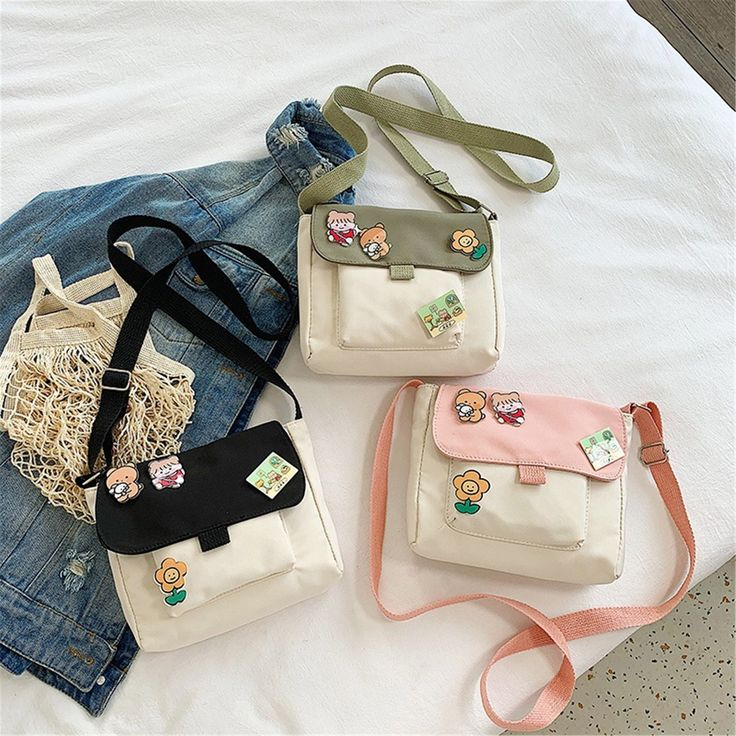nylon: (78, 196, 634, 654)
